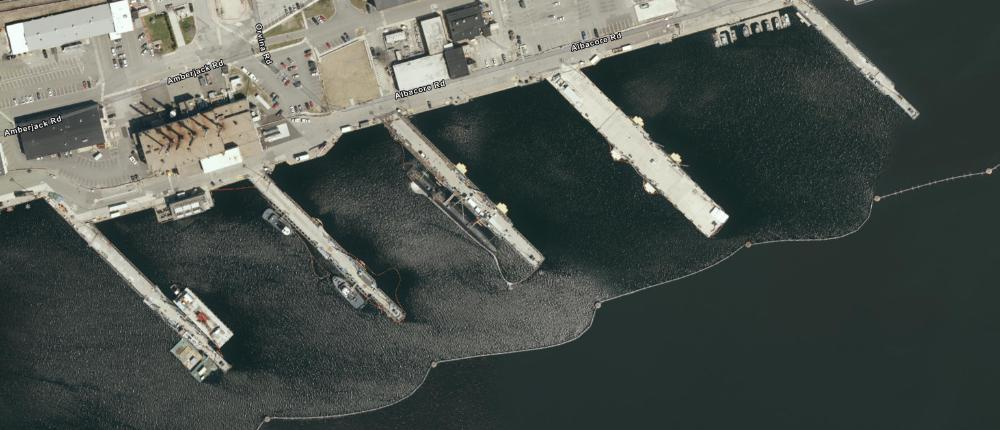submarine: (394, 154, 524, 271)
